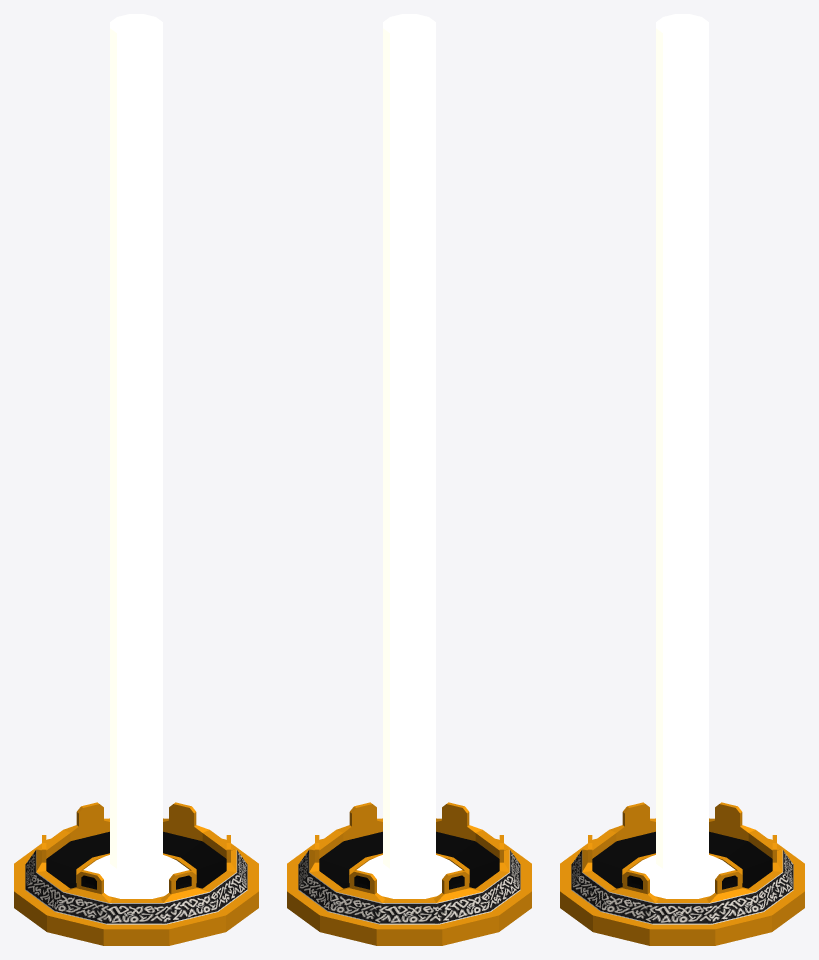
Rendered from maze-portal.glb.
3 views of the same model, side by side, from view 1: azimuth 30°, elevation 25°; view 2: azimuth 150°, elevation 25°; view 3: azimuth 270°, elevation 25° (orthographic).
Parts seen in each view (by area): view 1: mazePortal; view 2: mazePortal; view 3: mazePortal.
Boxes of the visible parts, left/top/right/bottom form: mazePortal: left=14, top=14, right=258, bottom=945; mazePortal: left=287, top=14, right=531, bottom=945; mazePortal: left=560, top=14, right=804, bottom=945.
Size of what is drawn, in the model's own units: 2.66 by 10.4 by 2.66.
4 materials, 1 textured.
